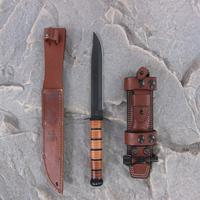knife: (78, 26, 113, 197)
